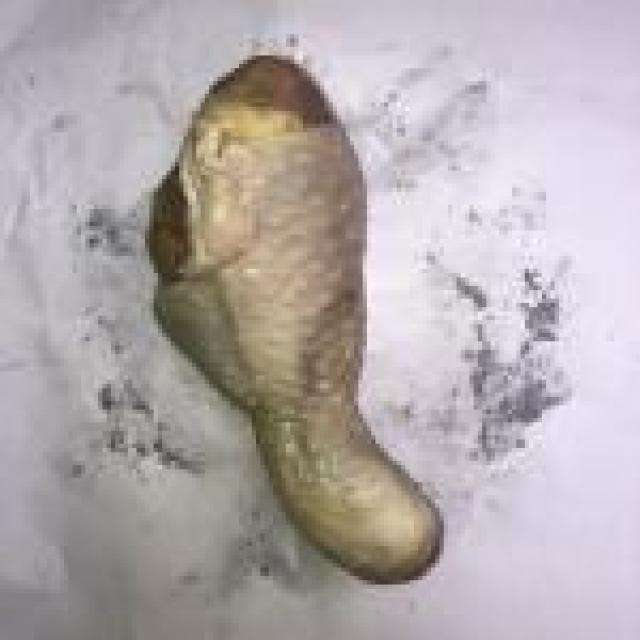leg: (134, 48, 449, 596)
